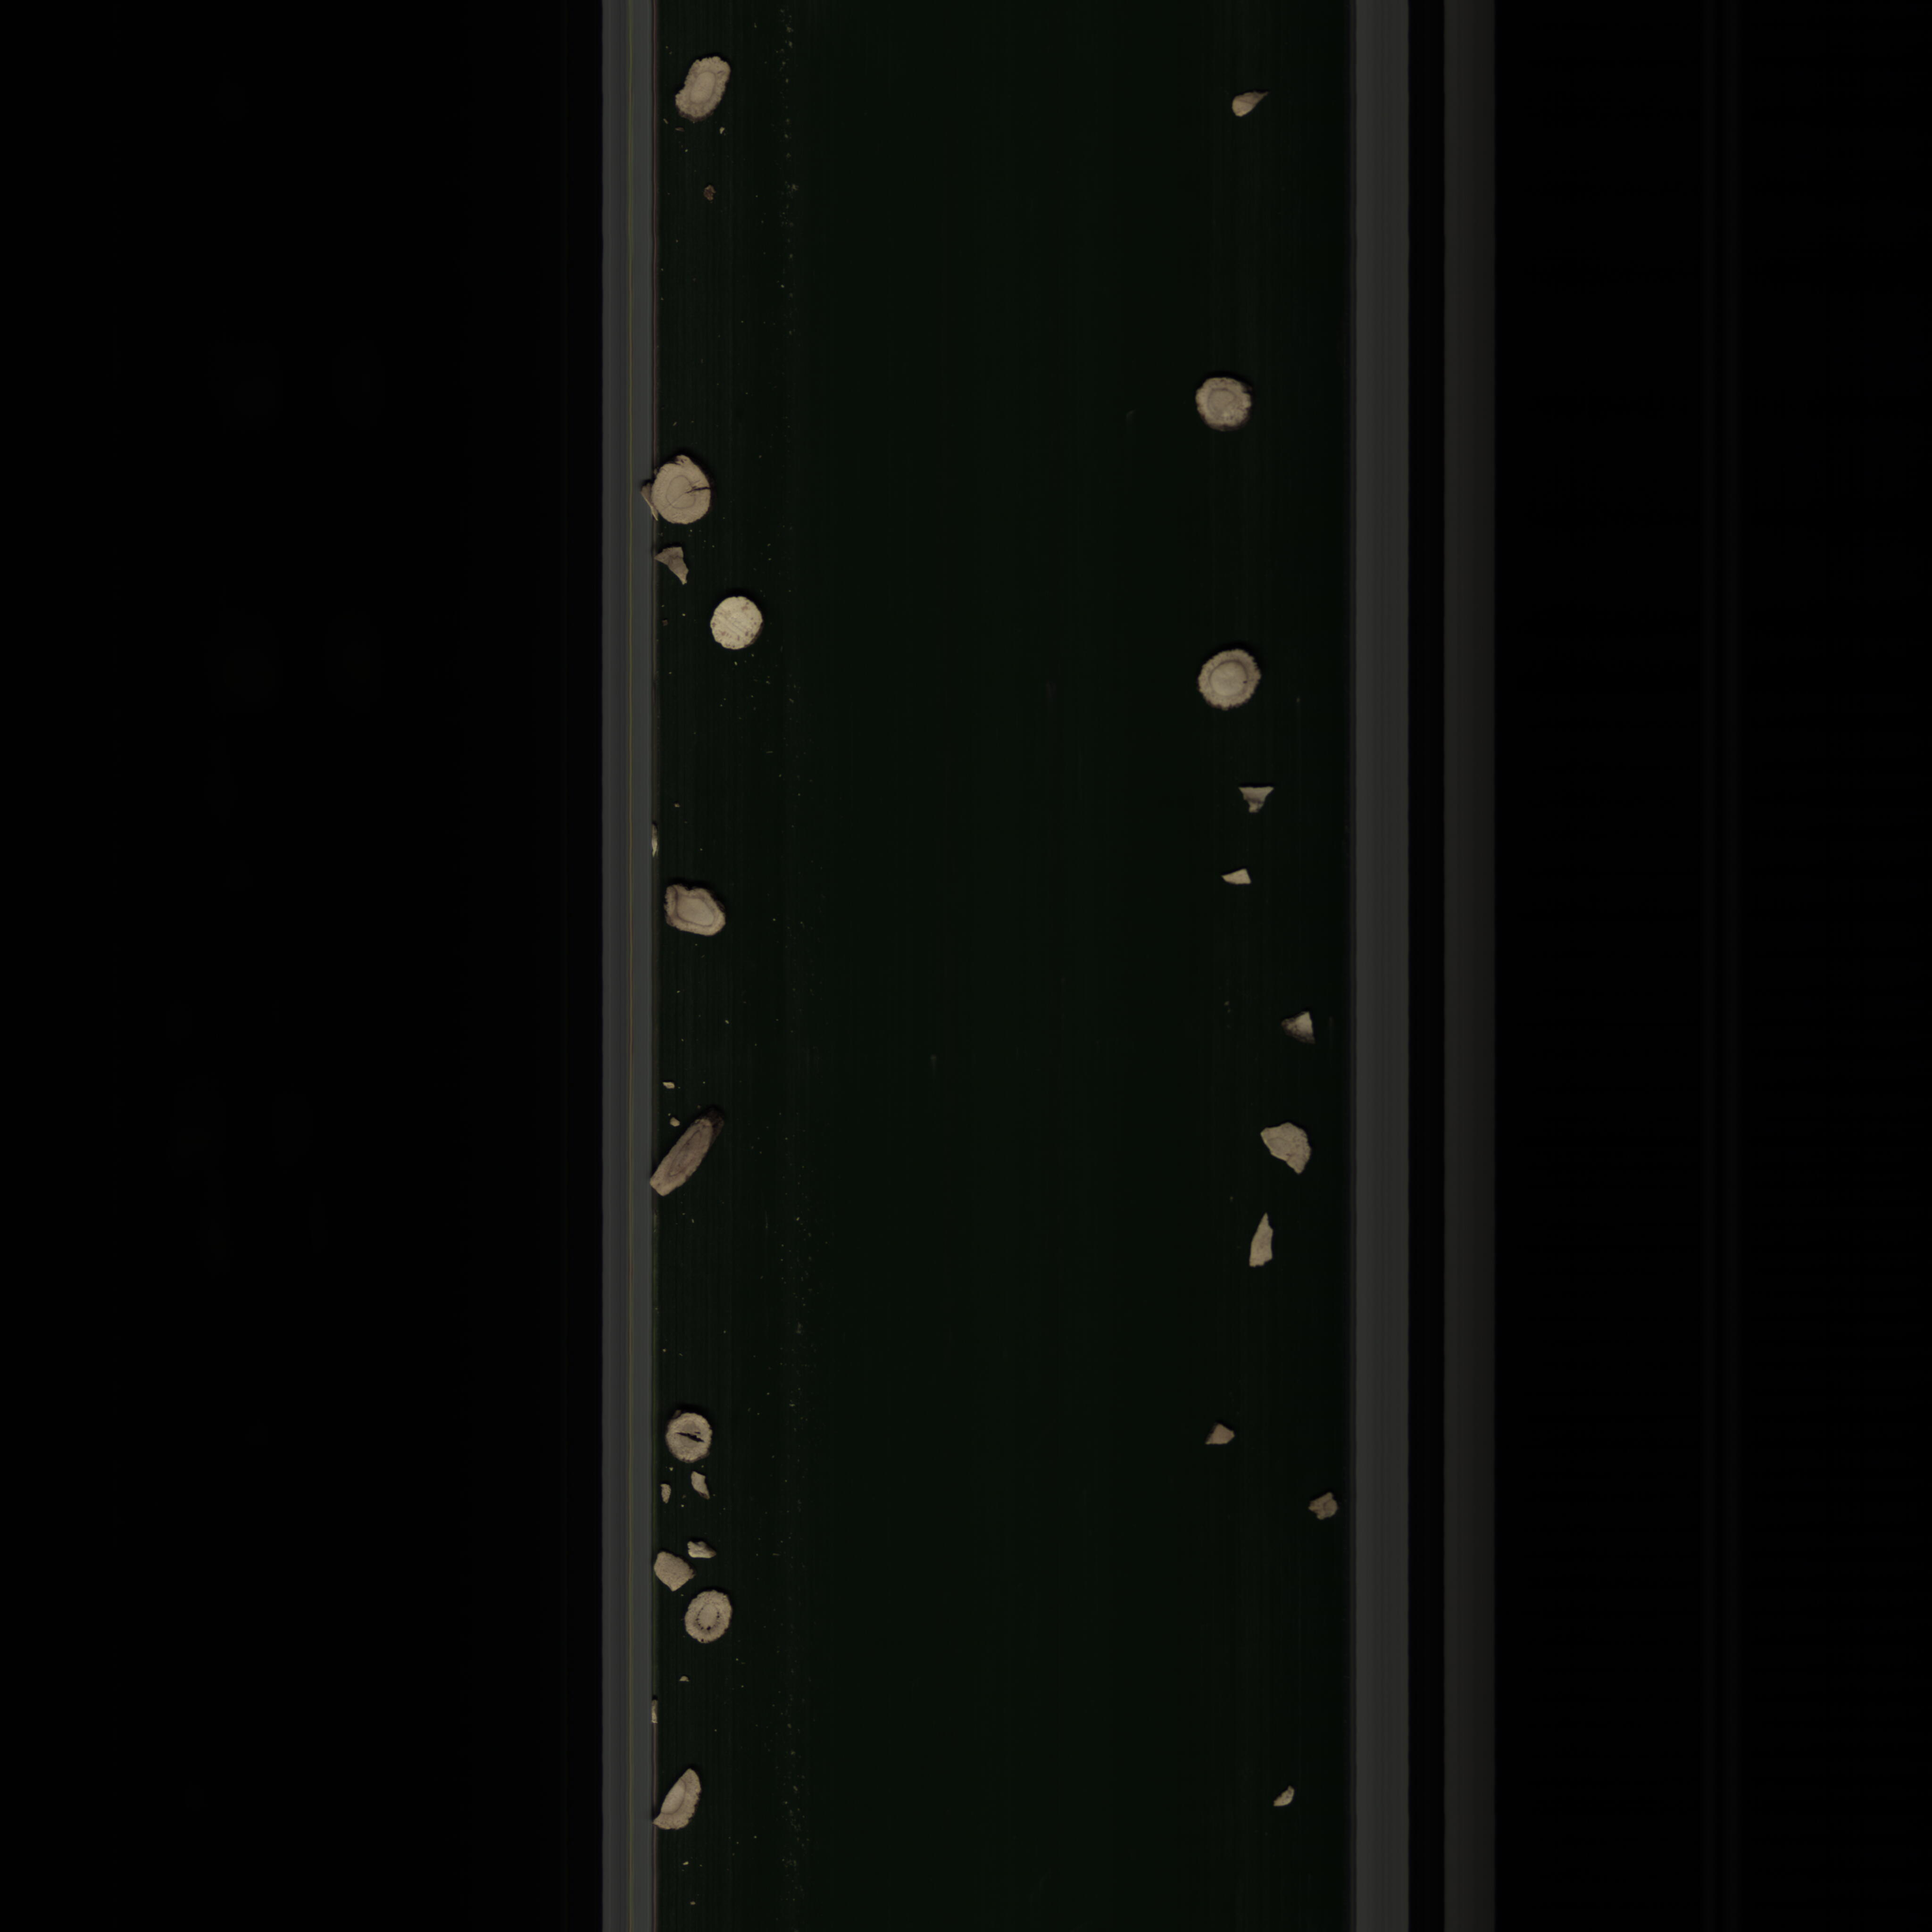debris: (1251, 1116, 1318, 1189), (655, 1766, 706, 1835), (1247, 1207, 1281, 1270), (649, 543, 697, 587), (1226, 87, 1276, 126), (1272, 1008, 1323, 1046), (1233, 777, 1277, 819), (653, 1545, 688, 1592), (1198, 1410, 1231, 1456), (683, 1536, 727, 1568), (1307, 1486, 1343, 1525), (1208, 862, 1256, 890), (1269, 1776, 1306, 1812), (683, 1467, 720, 1497)
distortion: (644, 1106, 745, 1200), (663, 53, 741, 124), (658, 883, 748, 939)
hole: (663, 1405, 727, 1463)
